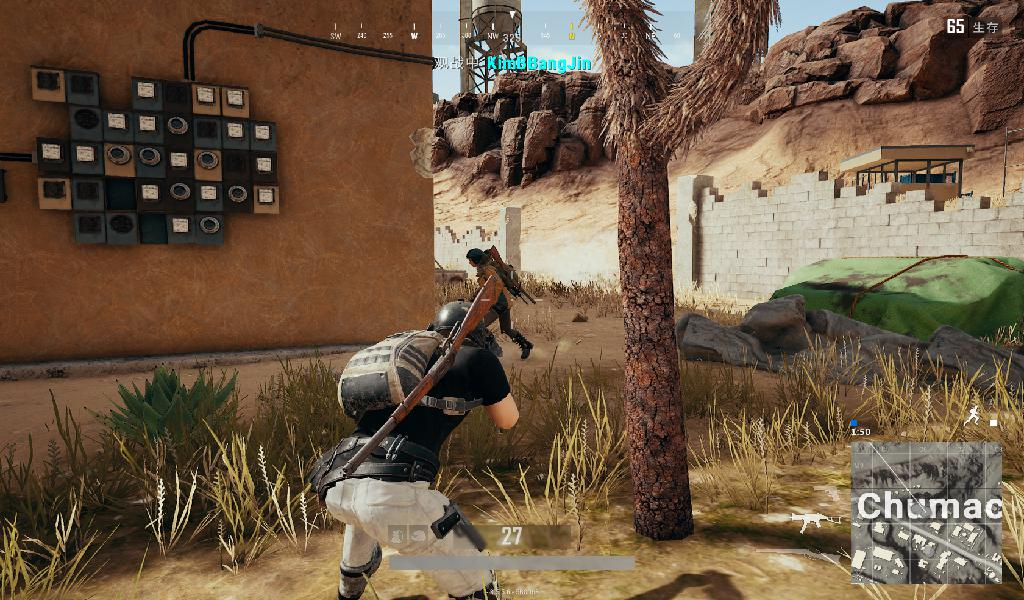Target Person: (313, 275, 520, 600), (447, 247, 538, 363)
